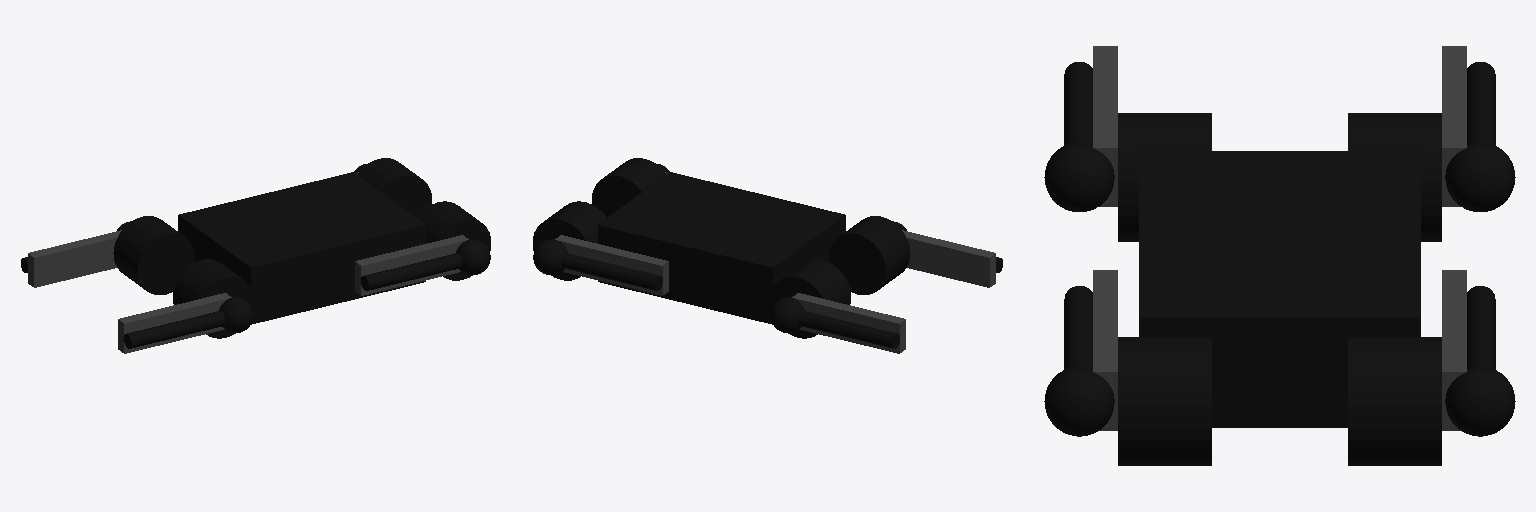
--- Render facts (derived) ---
3 views of the same robot in one strip: view 1: azimuth 30°, elevation 25°; view 2: azimuth 150°, elevation 25°; view 3: azimuth 270°, elevation 25° (orthographic).
Model spirit with 20 links and 19 joints (12 revolute, 7 fixed), rooted at base, posed all joints at 0.
Visible links, largest first — view 1: body, hip1, upper1, hip3, hip0, upper3, upper2, hip2, lower2, lower3, toe3, toe2; view 2: body, hip3, upper3, hip1, hip2, upper1, upper0, hip0, lower0, lower1, toe1, toe0; view 3: body, hip0, hip2, hip1, hip3, toe0, toe2, toe1, toe3, upper0, upper1, upper2 (+5 smaller).
Link boxes in pixels (x1,y1,x2,y2): body: [178, 172, 425, 324]; hip1: [113, 216, 194, 294]; upper1: [28, 230, 121, 287]; hip3: [173, 259, 253, 338]; hip0: [358, 158, 431, 217]; upper3: [118, 293, 231, 353]; upper2: [355, 235, 468, 295]; hip2: [417, 201, 490, 280]; lower2: [361, 253, 462, 290]; lower3: [124, 311, 225, 348]; toe3: [219, 297, 253, 332]; toe2: [456, 239, 490, 274]; body: [598, 172, 845, 324]; hip3: [829, 216, 910, 294]; upper3: [902, 230, 995, 287]; hip1: [770, 259, 850, 338]; hip2: [592, 158, 665, 217]; upper1: [792, 293, 905, 353]; upper0: [555, 235, 668, 295]; hip0: [533, 201, 606, 280]; lower0: [561, 253, 662, 290]; lower1: [798, 311, 899, 348]; toe1: [770, 297, 804, 332]; toe0: [533, 239, 567, 274]; body: [1139, 151, 1420, 427]; hip0: [1348, 337, 1441, 465]; hip2: [1118, 337, 1211, 465]; hip1: [1348, 113, 1441, 241]; hip3: [1118, 113, 1211, 241]; toe0: [1445, 366, 1515, 436]; toe2: [1044, 366, 1114, 436]; toe1: [1445, 142, 1515, 211]; toe3: [1044, 142, 1114, 211]; upper0: [1442, 270, 1466, 430]; upper1: [1442, 46, 1466, 206]; upper2: [1093, 270, 1117, 430].
Size in the robot's own frame: 0.7136 by 0.402 by 0.11 metres.
0 mesh visuals loaded from 1 distinct referenced files (none loaded); not drawn: 2 (reference not matched to a file when rendering).

robot.urdf — spirit:
<?xml version="1.0" encoding="utf-8"?>
<!-- =================================================================================== -->
<!-- |    This document was autogenerated by xacro from spirit40_gaz.urdf.xacro        | -->
<!-- |    EDITING THIS FILE BY HAND IS NOT RECOMMENDED                                 | -->
<!-- =================================================================================== -->
<!--
MIT License (modified)

Copyright (c) 2022 Ghost Robotics

Permission is hereby granted, free of charge, to any person obtaining a copy
of this **file** (the "Software"), to deal
in the Software without restriction, including without limitation the rights
to use, copy, modify, merge, publish, distribute, sublicense, and/or sell
copies of the Software, and to permit persons to whom the Software is
furnished to do so, subject to the following conditions:

The above copyright notice and this permission notice shall be included in all
copies or substantial portions of the Software.

THE SOFTWARE IS PROVIDED "AS IS", WITHOUT WARRANTY OF ANY KIND, EXPRESS OR
IMPLIED, INCLUDING BUT NOT LIMITED TO THE WARRANTIES OF MERCHANTABILITY,
FITNESS FOR A PARTICULAR PURPOSE AND NONINFRINGEMENT. IN NO EVENT SHALL THE
AUTHORS OR COPYRIGHT HOLDERS BE LIABLE FOR ANY CLAIM, DAMAGES OR OTHER
LIABILITY, WHETHER IN AN ACTION OF CONTRACT, TORT OR OTHERWISE, ARISING FROM,
OUT OF OR IN CONNECTION WITH THE SOFTWARE OR THE USE OR OTHER DEALINGS IN THE
SOFTWARE.
-->
<robot name="spirit">
  <!-- Define materials -->
  <material name="gray">
    <color rgba="0.2 0.2 0.2 1.0"/>
  </material>
  <material name="darkgray">
    <color rgba="0.1 0.1 0.1 1.0"/>
  </material>
  <material name="silver">
    <color rgba="0.3 0.3 0.3 1.0"/>
  </material>
  <material name="red">
    <color rgba="0.8 0.0 0.2 1.0"/>
  </material>
  <material name="scots-rose">
    <color rgba="0.937 0.2 0.251 1.0"/>
  </material>
  <!-- Body -->
  <link name="base"/>
  <joint name="base_body_joint" type="fixed">
    <parent link="base"/>
    <child link="body"/>
  </joint>
  <link name="body">
    <visual>
      <origin rpy="0 0 0" xyz="0 0 0"/>
      <geometry>
        <box size="0.335 0.24 0.104"/>
      </geometry>
      <material name="darkgray"/>
    </visual>
    <inertial>
      <mass value="7.388"/>
      <!-- Uniform box -->
      <!-- <inertia ixx="1/12*${bodyMass}*(${bodyWidth}*${bodyWidth} + ${bodyHeight}*${bodyHeight})"  ixy="0"  ixz="0" iyy="1/12*${bodyMass}*(${bodyLength}*${bodyLength} + ${bodyHeight}*${bodyHeight})" iyz="0" izz="1/12*${bodyMass}*(${bodyLength}*${bodyLength} + ${bodyWidth}*${bodyWidth})"/> -->
      <inertia ixx="0.0642434782" ixy="0" ixz="0" iyy="0.1284869565" iyz="0" izz="0.1284869565"/>
    </inertial>
    <!-- Just copy geometry for collision -->
    <collision>
      <origin rpy="0 0 0" xyz="0 0 0"/>
      <geometry>
        <box size="0.335 0.24 0.104"/>
      </geometry>
    </collision>
  </link>
  <gazebo reference="body">
    <gravity>true</gravity>
    <sensor name="imu_sensor" type="imu">
      <always_on>true</always_on>
      <visualize>true</visualize>
      <topic>__default_topic_</topic>
      <plugin filename="libgazebo_ros_imu_sensor.so" name="imu_plugin">
        <topicName>imu</topicName>
        <bodyName>body</bodyName>
        <updateRateHZ>500.0</updateRateHZ>
        <gaussianNoise>0.0</gaussianNoise>
        <xyzOffset>0 0 0</xyzOffset>
        <rpyOffset>0 0 0</rpyOffset>
        <frameName>body</frameName>
        <initialOrientationAsReference>true</initialOrientationAsReference>
      </plugin>
      <pose>0 0 0 0 0 0</pose>
    </sensor>
  </gazebo>
  <!-- Hip motor -->
  <link name="hip0">
    <visual>
      <origin rpy="1.5707963268 0 0" xyz="0.0 0.028 0"/>
      <geometry>
        <cylinder length="0.08" radius="0.055"/>
      </geometry>
      <material name="darkgray"/>
    </visual>
    <collision>
      <origin rpy="1.5707963268 0 0" xyz="0 0.028 0"/>
      <geometry>
        <cylinder length="0.08" radius="0.055"/>
      </geometry>
    </collision>
    <inertial>
      <mass value="0.575"/>
      <!-- <inertia ixx="1/12*${podMass}*${podLength}*${podLength} + 1/4*${podMass}*${podRadius}*${podRadius}"  ixy="0"  ixz="0" iyy="1/12*${podMass}*${podLength}*${podLength} + 1/4*${podMass}*${podRadius}*${podRadius}" iyz="0" izz="1/2*${podMass}*${podRadius}*$
				{podRadius}" /> -->
      <inertia ixx="0.00066963541" ixy="0" ixz="0" iyy="0.00066963541" iyz="0" izz="0.0008696875"/>
    </inertial>
  </link>
  <gazebo reference="hip0">
    <material>Gazebo/Gray</material>
  </gazebo>
  <!-- Abduction joint. Joint names are: 8 9 10 11 -->
  <joint name="8" type="revolute">
    <parent link="body"/>
    <child link="hip0"/>
    <axis xyz="1 0 0"/>
    <origin xyz="0.2263 0.07 0"/>
    <limit effort="21" lower="-0.707" upper="0.707" velocity="37.7"/>
    <dynamics damping="0.0" friction="0.0"/>
  </joint>
  <!-- Transmission elements required for Gazebo -->
  <transmission name="transmission_8">
    <type>transmission_interface/SimpleTransmission</type>
    <joint name="8">
      <hardwareInterface>hardware_interface/EffortJointInterface</hardwareInterface>
    </joint>
    <actuator name="motor_8">
      <hardwareInterface>EffortJointInterface</hardwareInterface>
      <mechanicalReduction>1</mechanicalReduction>
    </actuator>
  </transmission>
  <!-- Upper leg -->
  <link name="upper0">
    <visual>
      <origin rpy="0 0 0" xyz="-0.103 -0.022 0"/>
      <geometry>
        <box size="0.206 0.022 0.055"/>
      </geometry>
      <material name="silver"/>
    </visual>
    <collision>
      <origin rpy="0 0 0" xyz="-0.103 -0.022 0"/>
      <geometry>
        <box size="0.206 0.022 0.055"/>
      </geometry>
    </collision>
    <inertial>
      <origin rpy="0 0 0" xyz="-0.040 -0.041 0"/>
      <mass value="0.792"/>
      <inertia ixx="5e-03" ixy="0" ixz="0" iyy="0.0070" iyz="0" izz="0.0070"/>
    </inertial>
  </link>
  <gazebo reference="upper0">
    <material>Gazebo/Gray</material>
  </gazebo>
  <!-- Hip joint. (Motor to upper leg). Joint names are: 0 2 4 6 -->
  <joint name="0" type="revolute">
    <parent link="hip0"/>
    <child link="upper0"/>
    <axis xyz="0 -1 0"/>
    <origin xyz="0 0.10098 0"/>
    <!--  rpy="0 -0.3 0" -->
    <limit effort="21" lower="-1.57" upper="3.14" velocity="37.7"/>
    <dynamics damping="0.0" friction="0.0"/>
  </joint>
  <!-- Transmission elements required for Gazebo -->
  <transmission name="transmission_0">
    <type>transmission_interface/SimpleTransmission</type>
    <joint name="0">
      <hardwareInterface>hardware_interface/EffortJointInterface</hardwareInterface>
    </joint>
    <actuator name="motor_0">
      <hardwareInterface>EffortJointInterface</hardwareInterface>
      <mechanicalReduction>1</mechanicalReduction>
    </actuator>
  </transmission>
  <!-- Lower leg -->
  <link name="lower0">
    <visual>
      <origin rpy="0 1.5707963268 0" xyz="0.103 0 0"/>
      <geometry>
        <cylinder length="0.206" radius="0.013"/>
      </geometry>
      <material name="darkgray"/>
    </visual>
    <collision>
      <origin rpy="0 1.5707963268 0" xyz="0.103 0 0"/>
      <geometry>
        <cylinder length="0.206" radius="0.013"/>
      </geometry>
    </collision>
    <inertial>
      <origin rpy="0 0 0" xyz="0.092 0 0"/>
      <mass value="0.096"/>
      <inertia ixx="1.3e-05" ixy="0" ixz="0" iyy="0.00047" iyz="0" izz="0.00047"/>
    </inertial>
  </link>
  <gazebo reference="lower0">
    <material>Gazebo/Black</material>
  </gazebo>
  <!-- Knee joint. Joint names are: 1 3 5 7 -->
  <joint name="1" type="revolute">
    <parent link="upper0"/>
    <child link="lower0"/>
    <axis xyz="0 1 0"/>
    <origin xyz="-0.206 0 0"/>
    <!--rpy="0 0.5 0"-->
    <limit effort="32" lower="-6.28" upper="6.28" velocity="25.1"/>
    <dynamics damping="0.0" friction="0.0"/>
  </joint>
  <!-- Transmission elements required for Gazebo -->
  <transmission name="transmission_1">
    <type>transmission_interface/SimpleTransmission</type>
    <joint name="1">
      <hardwareInterface>hardware_interface/EffortJointInterface</hardwareInterface>
    </joint>
    <actuator name="motor_1">
      <hardwareInterface>EffortJointInterface</hardwareInterface>
      <mechanicalReduction>1</mechanicalReduction>
    </actuator>
  </transmission>
  <!-- Toe -->
  <link name="toe0">
    <contact>
      <friction_anchor/>
      <stiffness value="30000.0"/>
      <damping value="1000.0"/>
      <spinning_friction value="0.3"/>
      <lateral_friction value="50.0"/>
    </contact>
    <visual>
      <origin rpy="0 0 0" xyz="0 0 0"/>
      <geometry>
        <sphere radius="0.03"/>
      </geometry>
      <material name="darkgray"/>
    </visual>
    <collision>
      <origin rpy="0 0 0" xyz="0 0 0"/>
      <geometry>
        <sphere radius="0.03"/>
      </geometry>
      <surface>
        <friction>
          <ode>
            <mu>0.5</mu>
            <mu2>0.5</mu2>
          </ode>
        </friction>
        <contact>
          <ode>
            <kp>30000</kp>
            <kd>1000</kd>
          </ode>
        </contact>
      </surface>
    </collision>
    <inertial>
      <mass value="0.015"/>
      <inertia ixx="0.000025" ixy="0" ixz="0" iyy="0.000025" iyz="0" izz="0.000025"/>
      <!-- <inertia ixx="2/5*${toeMass}*${toeRadius}*${toeRadius}"  ixy="0"  ixz="0" iyy="2/5*${toeMass}*${toeRadius}*${toeRadius}" iyz="0" izz="2/5*${toeMass}*${toeRadius}*${toeRadius}" /> -->
    </inertial>
  </link>
  <gazebo reference="toe0">
    <material>Gazebo/DarkGray</material>
    <collision>
      <surface>
        <bounce>
          <restitution_coefficient>0</restitution_coefficient>
          <threshold>1e+06</threshold>
        </bounce>
        <friction>
          <ode>
            <mu>0.5</mu>
            <mu2>0.5</mu2>
          </ode>
          <bullet>
            <rolling_friction>0.3</rolling_friction>
            <friction2>50.0</friction2>
          </bullet>
        </friction>
        <contact>
          <bullet>
            <kp>30000.0</kp>
            <kd>1000.0</kd>
          </bullet>
          <ode>
            <kp>30000</kp>
            <kd>1000</kd>
          </ode>
        </contact>
      </surface>
    </collision>
  </gazebo>
  <joint name="jtoe0" type="fixed">
    <parent link="lower0"/>
    <child link="toe0"/>
    <origin xyz="0.206 0 -0.0"/>
    <dynamics damping="0.0" friction="0.0"/>
  </joint>
  <!-- Hip motor -->
  <link name="hip1">
    <visual>
      <origin rpy="1.5707963268 0 0" xyz="-0.0 0.028 0"/>
      <geometry>
        <cylinder length="0.08" radius="0.055"/>
      </geometry>
      <material name="darkgray"/>
    </visual>
    <collision>
      <origin rpy="1.5707963268 0 0" xyz="0 0.028 0"/>
      <geometry>
        <cylinder length="0.08" radius="0.055"/>
      </geometry>
    </collision>
    <inertial>
      <mass value="0.575"/>
      <!-- <inertia ixx="1/12*${podMass}*${podLength}*${podLength} + 1/4*${podMass}*${podRadius}*${podRadius}"  ixy="0"  ixz="0" iyy="1/12*${podMass}*${podLength}*${podLength} + 1/4*${podMass}*${podRadius}*${podRadius}" iyz="0" izz="1/2*${podMass}*${podRadius}*$
				{podRadius}" /> -->
      <inertia ixx="0.00066963541" ixy="0" ixz="0" iyy="0.00066963541" iyz="0" izz="0.0008696875"/>
    </inertial>
  </link>
  <gazebo reference="hip1">
    <material>Gazebo/Gray</material>
  </gazebo>
  <!-- Abduction joint. Joint names are: 8 9 10 11 -->
  <joint name="9" type="revolute">
    <parent link="body"/>
    <child link="hip1"/>
    <axis xyz="1 0 0"/>
    <origin xyz="-0.2263 0.07 0"/>
    <limit effort="21" lower="-0.707" upper="0.707" velocity="37.7"/>
    <dynamics damping="0.0" friction="0.0"/>
  </joint>
  <!-- Transmission elements required for Gazebo -->
  <transmission name="transmission_9">
    <type>transmission_interface/SimpleTransmission</type>
    <joint name="9">
      <hardwareInterface>hardware_interface/EffortJointInterface</hardwareInterface>
    </joint>
    <actuator name="motor_9">
      <hardwareInterface>EffortJointInterface</hardwareInterface>
      <mechanicalReduction>1</mechanicalReduction>
    </actuator>
  </transmission>
  <!-- Upper leg -->
  <link name="upper1">
    <visual>
      <origin rpy="0 0 0" xyz="-0.103 -0.022 0"/>
      <geometry>
        <box size="0.206 0.022 0.055"/>
      </geometry>
      <material name="silver"/>
    </visual>
    <collision>
      <origin rpy="0 0 0" xyz="-0.103 -0.022 0"/>
      <geometry>
        <box size="0.206 0.022 0.055"/>
      </geometry>
    </collision>
    <inertial>
      <origin rpy="0 0 0" xyz="-0.040 -0.041 0"/>
      <mass value="0.792"/>
      <inertia ixx="5e-03" ixy="0" ixz="0" iyy="0.0070" iyz="0" izz="0.0070"/>
    </inertial>
  </link>
  <gazebo reference="upper1">
    <material>Gazebo/Gray</material>
  </gazebo>
  <!-- Hip joint. (Motor to upper leg). Joint names are: 0 2 4 6 -->
  <joint name="2" type="revolute">
    <parent link="hip1"/>
    <child link="upper1"/>
    <axis xyz="0 -1 0"/>
    <origin xyz="0 0.10098 0"/>
    <!--  rpy="0 -0.3 0" -->
    <limit effort="21" lower="-3.14" upper="1.57" velocity="37.7"/>
    <dynamics damping="0.0" friction="0.0"/>
  </joint>
  <!-- Transmission elements required for Gazebo -->
  <transmission name="transmission_2">
    <type>transmission_interface/SimpleTransmission</type>
    <joint name="2">
      <hardwareInterface>hardware_interface/EffortJointInterface</hardwareInterface>
    </joint>
    <actuator name="motor_2">
      <hardwareInterface>EffortJointInterface</hardwareInterface>
      <mechanicalReduction>1</mechanicalReduction>
    </actuator>
  </transmission>
  <!-- Lower leg -->
  <link name="lower1">
    <visual>
      <origin rpy="0 1.5707963268 0" xyz="0.103 0 0"/>
      <geometry>
        <cylinder length="0.206" radius="0.013"/>
      </geometry>
      <material name="darkgray"/>
    </visual>
    <collision>
      <origin rpy="0 1.5707963268 0" xyz="0.103 0 0"/>
      <geometry>
        <cylinder length="0.206" radius="0.013"/>
      </geometry>
    </collision>
    <inertial>
      <origin rpy="0 0 0" xyz="0.092 0 0"/>
      <mass value="0.096"/>
      <inertia ixx="1.3e-05" ixy="0" ixz="0" iyy="0.00047" iyz="0" izz="0.00047"/>
    </inertial>
  </link>
  <gazebo reference="lower1">
    <material>Gazebo/Black</material>
  </gazebo>
  <!-- Knee joint. Joint names are: 1 3 5 7 -->
  <joint name="3" type="revolute">
    <parent link="upper1"/>
    <child link="lower1"/>
    <axis xyz="0 1 0"/>
    <origin xyz="-0.206 0 0"/>
    <!--rpy="0 0.5 0"-->
    <limit effort="32" lower="-6.28" upper="6.28" velocity="25.1"/>
    <dynamics damping="0.0" friction="0.0"/>
  </joint>
  <!-- Transmission elements required for Gazebo -->
  <transmission name="transmission_3">
    <type>transmission_interface/SimpleTransmission</type>
    <joint name="3">
      <hardwareInterface>hardware_interface/EffortJointInterface</hardwareInterface>
    </joint>
    <actuator name="motor_3">
      <hardwareInterface>EffortJointInterface</hardwareInterface>
      <mechanicalReduction>1</mechanicalReduction>
    </actuator>
  </transmission>
  <!-- Toe -->
  <link name="toe1">
    <contact>
      <friction_anchor/>
      <stiffness value="30000.0"/>
      <damping value="1000.0"/>
      <spinning_friction value="0.3"/>
      <lateral_friction value="50.0"/>
    </contact>
    <visual>
      <origin rpy="0 0 0" xyz="0 0 0"/>
      <geometry>
        <sphere radius="0.03"/>
      </geometry>
      <material name="darkgray"/>
    </visual>
    <collision>
      <origin rpy="0 0 0" xyz="0 0 0"/>
      <geometry>
        <sphere radius="0.03"/>
      </geometry>
      <surface>
        <friction>
          <ode>
            <mu>0.5</mu>
            <mu2>0.5</mu2>
          </ode>
        </friction>
        <contact>
          <ode>
            <kp>30000</kp>
            <kd>1000</kd>
          </ode>
        </contact>
      </surface>
    </collision>
    <inertial>
      <mass value="0.015"/>
      <inertia ixx="0.000025" ixy="0" ixz="0" iyy="0.000025" iyz="0" izz="0.000025"/>
      <!-- <inertia ixx="2/5*${toeMass}*${toeRadius}*${toeRadius}"  ixy="0"  ixz="0" iyy="2/5*${toeMass}*${toeRadius}*${toeRadius}" iyz="0" izz="2/5*${toeMass}*${toeRadius}*${toeRadius}" /> -->
    </inertial>
  </link>
  <gazebo reference="toe1">
    <material>Gazebo/DarkGray</material>
    <collision>
      <surface>
        <bounce>
          <restitution_coefficient>0</restitution_coefficient>
          <threshold>1e+06</threshold>
        </bounce>
        <friction>
          <ode>
            <mu>0.5</mu>
            <mu2>0.5</mu2>
          </ode>
          <bullet>
            <rolling_friction>0.3</rolling_friction>
            <friction2>50.0</friction2>
          </bullet>
        </friction>
        <contact>
          <bullet>
            <kp>30000.0</kp>
            <kd>1000.0</kd>
          </bullet>
          <ode>
            <kp>30000</kp>
            <kd>1000</kd>
          </ode>
        </contact>
      </surface>
    </collision>
  </gazebo>
  <joint name="jtoe1" type="fixed">
    <parent link="lower1"/>
    <child link="toe1"/>
    <origin xyz="0.206 0 -0.0"/>
    <dynamics damping="0.0" friction="0.0"/>
  </joint>
  <!-- Hip motor -->
  <link name="hip2">
    <visual>
      <origin rpy="1.5707963268 0 0" xyz="0.0 -0.028 0"/>
      <geometry>
        <cylinder length="0.08" radius="0.055"/>
      </geometry>
      <material name="darkgray"/>
    </visual>
    <collision>
      <origin rpy="1.5707963268 0 0" xyz="0 -0.028 0"/>
      <geometry>
        <cylinder length="0.08" radius="0.055"/>
      </geometry>
    </collision>
    <inertial>
      <mass value="0.575"/>
      <!-- <inertia ixx="1/12*${podMass}*${podLength}*${podLength} + 1/4*${podMass}*${podRadius}*${podRadius}"  ixy="0"  ixz="0" iyy="1/12*${podMass}*${podLength}*${podLength} + 1/4*${podMass}*${podRadius}*${podRadius}" iyz="0" izz="1/2*${podMass}*${podRadius}*$
				{podRadius}" /> -->
      <inertia ixx="0.00066963541" ixy="0" ixz="0" iyy="0.00066963541" iyz="0" izz="0.0008696875"/>
    </inertial>
  </link>
  <gazebo reference="hip2">
    <material>Gazebo/Gray</material>
  </gazebo>
  <!-- Abduction joint. Joint names are: 8 9 10 11 -->
  <joint name="10" type="revolute">
    <parent link="body"/>
    <child link="hip2"/>
    <axis xyz="1 0 0"/>
    <origin xyz="0.2263 -0.07 0"/>
    <limit effort="21" lower="-0.707" upper="0.707" velocity="37.7"/>
    <dynamics damping="0.0" friction="0.0"/>
  </joint>
  <!-- Transmission elements required for Gazebo -->
  <transmission name="transmission_10">
    <type>transmission_interface/SimpleTransmission</type>
    <joint name="10">
      <hardwareInterface>hardware_interface/EffortJointInterface</hardwareInterface>
    </joint>
    <actuator name="motor_10">
      <hardwareInterface>EffortJointInterface</hardwareInterface>
      <mechanicalReduction>1</mechanicalReduction>
    </actuator>
  </transmission>
  <!-- Upper leg -->
  <link name="upper2">
    <visual>
      <origin rpy="0 0 0" xyz="-0.103 0.022 0"/>
      <geometry>
        <box size="0.206 0.022 0.055"/>
      </geometry>
      <material name="silver"/>
    </visual>
    <collision>
      <origin rpy="0 0 0" xyz="-0.103 0.022 0"/>
      <geometry>
        <box size="0.206 0.022 0.055"/>
      </geometry>
    </collision>
    <inertial>
      <origin rpy="0 0 0" xyz="-0.040 0.041 0"/>
      <mass value="0.792"/>
      <inertia ixx="5e-03" ixy="0" ixz="0" iyy="0.0070" iyz="0" izz="0.0070"/>
    </inertial>
  </link>
  <gazebo reference="upper2">
    <material>Gazebo/Gray</material>
  </gazebo>
  <!-- Hip joint. (Motor to upper leg). Joint names are: 0 2 4 6 -->
  <joint name="4" type="revolute">
    <parent link="hip2"/>
    <child link="upper2"/>
    <axis xyz="0 -1 0"/>
    <origin xyz="0 -0.10098 0"/>
    <!--  rpy="0 -0.3 0" -->
    <limit effort="21" lower="-1.57" upper="3.14" velocity="37.7"/>
    <dynamics damping="0.0" friction="0.0"/>
  </joint>
  <!-- Transmission elements required for Gazebo -->
  <transmission name="transmission_4">
    <type>transmission_interface/SimpleTransmission</type>
    <joint name="4">
      <hardwareInterface>hardware_interface/EffortJointInterface</hardwareInterface>
    </joint>
    <actuator name="motor_4">
      <hardwareInterface>EffortJointInterface</hardwareInterface>
      <mechanicalReduction>1</mechanicalReduction>
    </actuator>
  </transmission>
  <!-- Lower leg -->
  <link name="lower2">
    <visual>
      <origin rpy="0 1.5707963268 0" xyz="0.103 0 0"/>
      <geometry>
        <cylinder length="0.206" radius="0.013"/>
      </geometry>
      <material name="darkgray"/>
    </visual>
    <collision>
      <origin rpy="0 1.5707963268 0" xyz="0.103 0 0"/>
      <geometry>
        <cylinder length="0.206" radius="0.013"/>
      </geometry>
    </collision>
    <inertial>
      <origin rpy="0 0 0" xyz="0.092 0 0"/>
      <mass value="0.096"/>
      <inertia ixx="1.3e-05" ixy="0" ixz="0" iyy="0.00047" iyz="0" izz="0.00047"/>
    </inertial>
  </link>
  <gazebo reference="lower2">
    <material>Gazebo/Black</material>
  </gazebo>
  <!-- Knee joint. Joint names are: 1 3 5 7 -->
  <joint name="5" type="revolute">
    <parent link="upper2"/>
    <child link="lower2"/>
    <axis xyz="0 1 0"/>
    <origin xyz="-0.206 0 0"/>
    <!--rpy="0 0.5 0"-->
    <limit effort="32" lower="-6.28" upper="6.28" velocity="25.1"/>
    <dynamics damping="0.0" friction="0.0"/>
  </joint>
  <!-- Transmission elements required for Gazebo -->
  <transmission name="transmission_5">
    <type>transmission_interface/SimpleTransmission</type>
    <joint name="5">
      <hardwareInterface>hardware_interface/EffortJointInterface</hardwareInterface>
    </joint>
    <actuator name="motor_5">
      <hardwareInterface>EffortJointInterface</hardwareInterface>
      <mechanicalReduction>1</mechanicalReduction>
    </actuator>
  </transmission>
  <!-- Toe -->
  <link name="toe2">
    <contact>
      <friction_anchor/>
      <stiffness value="30000.0"/>
      <damping value="1000.0"/>
      <spinning_friction value="0.3"/>
      <lateral_friction value="50.0"/>
    </contact>
    <visual>
      <origin rpy="0 0 0" xyz="0 0 0"/>
      <geometry>
        <sphere radius="0.03"/>
      </geometry>
      <material name="darkgray"/>
    </visual>
    <collision>
      <origin rpy="0 0 0" xyz="0 0 0"/>
      <geometry>
        <sphere radius="0.03"/>
      </geometry>
      <surface>
        <friction>
          <ode>
            <mu>0.5</mu>
            <mu2>0.5</mu2>
          </ode>
        </friction>
        <contact>
          <ode>
            <kp>30000</kp>
            <kd>1000</kd>
          </ode>
        </contact>
      </surface>
    </collision>
    <inertial>
      <mass value="0.015"/>
      <inertia ixx="0.000025" ixy="0" ixz="0" iyy="0.000025" iyz="0" izz="0.000025"/>
      <!-- <inertia ixx="2/5*${toeMass}*${toeRadius}*${toeRadius}"  ixy="0"  ixz="0" iyy="2/5*${toeMass}*${toeRadius}*${toeRadius}" iyz="0" izz="2/5*${toeMass}*${toeRadius}*${toeRadius}" /> -->
    </inertial>
  </link>
  <gazebo reference="toe2">
    <material>Gazebo/DarkGray</material>
    <collision>
      <surface>
        <bounce>
          <restitution_coefficient>0</restitution_coefficient>
          <threshold>1e+06</threshold>
        </bounce>
        <friction>
          <ode>
            <mu>0.5</mu>
            <mu2>0.5</mu2>
          </ode>
          <bullet>
            <rolling_friction>0.3</rolling_friction>
            <friction2>50.0</friction2>
          </bullet>
        </friction>
        <contact>
          <bullet>
            <kp>30000.0</kp>
            <kd>1000.0</kd>
          </bullet>
          <ode>
            <kp>30000</kp>
            <kd>1000</kd>
          </ode>
        </contact>
      </surface>
    </collision>
  </gazebo>
  <joint name="jtoe2" type="fixed">
    <parent link="lower2"/>
    <child link="toe2"/>
    <origin xyz="0.206 0 -0.0"/>
    <dynamics damping="0.0" friction="0.0"/>
  </joint>
  <!-- Hip motor -->
  <link name="hip3">
    <visual>
      <origin rpy="1.5707963268 0 0" xyz="-0.0 -0.028 0"/>
      <geometry>
        <cylinder length="0.08" radius="0.055"/>
      </geometry>
      <material name="darkgray"/>
    </visual>
    <collision>
      <origin rpy="1.5707963268 0 0" xyz="0 -0.028 0"/>
      <geometry>
        <cylinder length="0.08" radius="0.055"/>
      </geometry>
    </collision>
    <inertial>
      <mass value="0.575"/>
      <!-- <inertia ixx="1/12*${podMass}*${podLength}*${podLength} + 1/4*${podMass}*${podRadius}*${podRadius}"  ixy="0"  ixz="0" iyy="1/12*${podMass}*${podLength}*${podLength} + 1/4*${podMass}*${podRadius}*${podRadius}" iyz="0" izz="1/2*${podMass}*${podRadius}*$
				{podRadius}" /> -->
      <inertia ixx="0.00066963541" ixy="0" ixz="0" iyy="0.00066963541" iyz="0" izz="0.0008696875"/>
    </inertial>
  </link>
  <gazebo reference="hip3">
    <material>Gazebo/Gray</material>
  </gazebo>
  <!-- Abduction joint. Joint names are: 8 9 10 11 -->
  <joint name="11" type="revolute">
    <parent link="body"/>
    <child link="hip3"/>
    <axis xyz="1 0 0"/>
    <origin xyz="-0.2263 -0.07 0"/>
    <limit effort="21" lower="-0.707" upper="0.707" velocity="37.7"/>
    <dynamics damping="0.0" friction="0.0"/>
  </joint>
  <!-- Transmission elements required for Gazebo -->
  <transmission name="transmission_11">
    <type>transmission_interface/SimpleTransmission</type>
    <joint name="11">
      <hardwareInterface>hardware_interface/EffortJointInterface</hardwareInterface>
    </joint>
    <actuator name="motor_11">
      <hardwareInterface>EffortJointInterface</hardwareInterface>
      <mechanicalReduction>1</mechanicalReduction>
    </actuator>
  </transmission>
  <!-- Upper leg -->
  <link name="upper3">
    <visual>
      <origin rpy="0 0 0" xyz="-0.103 0.022 0"/>
      <geometry>
        <box size="0.206 0.022 0.055"/>
      </geometry>
      <material name="silver"/>
    </visual>
    <collision>
      <origin rpy="0 0 0" xyz="-0.103 0.022 0"/>
      <geometry>
        <box size="0.206 0.022 0.055"/>
      </geometry>
    </collision>
    <inertial>
      <origin rpy="0 0 0" xyz="-0.040 0.041 0"/>
      <mass value="0.792"/>
      <inertia ixx="5e-03" ixy="0" ixz="0" iyy="0.0070" iyz="0" izz="0.0070"/>
    </inertial>
  </link>
  <gazebo reference="upper3">
    <material>Gazebo/Gray</material>
  </gazebo>
  <!-- Hip joint. (Motor to upper leg). Joint names are: 0 2 4 6 -->
  <joint name="6" type="revolute">
    <parent link="hip3"/>
    <child link="upper3"/>
    <axis xyz="0 -1 0"/>
    <origin xyz="0 -0.10098 0"/>
    <!--  rpy="0 -0.3 0" -->
    <limit effort="21" lower="-3.14" upper="1.57" velocity="37.7"/>
    <dynamics damping="0.0" friction="0.0"/>
  </joint>
  <!-- Transmission elements required for Gazebo -->
  <transmission name="transmission_6">
    <type>transmission_interface/SimpleTransmission</type>
    <joint name="6">
      <hardwareInterface>hardware_interface/EffortJointInterface</hardwareInterface>
    </joint>
    <actuator name="motor_6">
      <hardwareInterface>EffortJointInterface</hardwareInterface>
      <mechanicalReduction>1</mechanicalReduction>
    </actuator>
  </transmission>
  <!-- Lower leg -->
  <link name="lower3">
    <visual>
      <origin rpy="0 1.5707963268 0" xyz="0.103 0 0"/>
      <geometry>
        <cylinder length="0.206" radius="0.013"/>
      </geometry>
      <material name="darkgray"/>
    </visual>
    <collision>
      <origin rpy="0 1.5707963268 0" xyz="0.103 0 0"/>
      <geometry>
        <cylinder length="0.206" radius="0.013"/>
      </geometry>
    </collision>
    <inertial>
      <origin rpy="0 0 0" xyz="0.092 0 0"/>
      <mass value="0.096"/>
      <inertia ixx="1.3e-05" ixy="0" ixz="0" iyy="0.00047" iyz="0" izz="0.00047"/>
    </inertial>
  </link>
  <gazebo reference="lower3">
    <material>Gazebo/Black</material>
  </gazebo>
  <!-- Knee joint. Joint names are: 1 3 5 7 -->
  <joint name="7" type="revolute">
    <parent link="upper3"/>
    <child link="lower3"/>
    <axis xyz="0 1 0"/>
    <origin xyz="-0.206 0 0"/>
    <!--rpy="0 0.5 0"-->
    <limit effort="32" lower="-6.28" upper="6.28" velocity="25.1"/>
    <dynamics damping="0.0" friction="0.0"/>
  </joint>
  <!-- Transmission elements required for Gazebo -->
  <transmission name="transmission_7">
    <type>transmission_interface/SimpleTransmission</type>
    <joint name="7">
      <hardwareInterface>hardware_interface/EffortJointInterface</hardwareInterface>
    </joint>
    <actuator name="motor_7">
      <hardwareInterface>EffortJointInterface</hardwareInterface>
      <mechanicalReduction>1</mechanicalReduction>
    </actuator>
  </transmission>
  <!-- Toe -->
  <link name="toe3">
    <contact>
      <friction_anchor/>
      <stiffness value="30000.0"/>
      <damping value="1000.0"/>
      <spinning_friction value="0.3"/>
      <lateral_friction value="50.0"/>
    </contact>
    <visual>
      <origin rpy="0 0 0" xyz="0 0 0"/>
      <geometry>
        <sphere radius="0.03"/>
      </geometry>
      <material name="darkgray"/>
    </visual>
    <collision>
      <origin rpy="0 0 0" xyz="0 0 0"/>
      <geometry>
        <sphere radius="0.03"/>
      </geometry>
      <surface>
        <friction>
          <ode>
            <mu>0.5</mu>
            <mu2>0.5</mu2>
          </ode>
        </friction>
        <contact>
          <ode>
            <kp>30000</kp>
            <kd>1000</kd>
          </ode>
        </contact>
      </surface>
    </collision>
    <inertial>
      <mass value="0.015"/>
      <inertia ixx="0.000025" ixy="0" ixz="0" iyy="0.000025" iyz="0" izz="0.000025"/>
      <!-- <inertia ixx="2/5*${toeMass}*${toeRadius}*${toeRadius}"  ixy="0"  ixz="0" iyy="2/5*${toeMass}*${toeRadius}*${toeRadius}" iyz="0" izz="2/5*${toeMass}*${toeRadius}*${toeRadius}" /> -->
    </inertial>
  </link>
  <gazebo reference="toe3">
    <material>Gazebo/DarkGray</material>
    <collision>
      <surface>
        <bounce>
          <restitution_coefficient>0</restitution_coefficient>
          <threshold>1e+06</threshold>
        </bounce>
        <friction>
          <ode>
            <mu>0.5</mu>
            <mu2>0.5</mu2>
          </ode>
          <bullet>
            <rolling_friction>0.3</rolling_friction>
            <friction2>50.0</friction2>
          </bullet>
        </friction>
        <contact>
          <bullet>
            <kp>30000.0</kp>
            <kd>1000.0</kd>
          </bullet>
          <ode>
            <kp>30000</kp>
            <kd>1000</kd>
          </ode>
        </contact>
      </surface>
    </collision>
  </gazebo>
  <joint name="jtoe3" type="fixed">
    <parent link="lower3"/>
    <child link="toe3"/>
    <origin xyz="0.206 0 -0.0"/>
    <dynamics damping="0.0" friction="0.0"/>
  </joint>
  <link name="text_right">
    <visual>
      <origin rpy="0 0 0" xyz="0 0 0"/>
      <geometry>
        <mesh filename="package://spirit_description/meshes/Spirit40_CMU_Text_transformed.stl" scale="1.3 1 1.3"/>
      </geometry>
      <material name="scots-rose"/>
    </visual>
    <inertial>
      <mass value="0.0001"/>
      <inertia ixx="0.00" ixy="0" ixz="0" iyy="0" iyz="0" izz="0"/>
    </inertial>
  </link>
  <joint name="cmu_text_right" type="fixed">
    <parent link="body"/>
    <child link="text_right"/>
    <origin xyz="0.04 0 -0.005"/>
  </joint>
  <link name="text_left">
    <visual>
      <origin rpy="0 0 0" xyz="0 0 0"/>
      <geometry>
        <mesh filename="package://spirit_description/meshes/Spirit40_CMU_Text_transformed.stl" scale="1.3 1 1.3"/>
      </geometry>
      <material name="scots-rose"/>
    </visual>
    <inertial>
      <mass value="0.0001"/>
      <inertia ixx="0.00" ixy="0" ixz="0" iyy="0" iyz="0" izz="0"/>
    </inertial>
  </link>
  <joint name="cmu_text_left" type="fixed">
    <parent link="body"/>
    <child link="text_left"/>
    <origin xyz="-0.04 0 -0.005" rpy="0 0 3.14159"/>
  </joint>
  
</robot>
